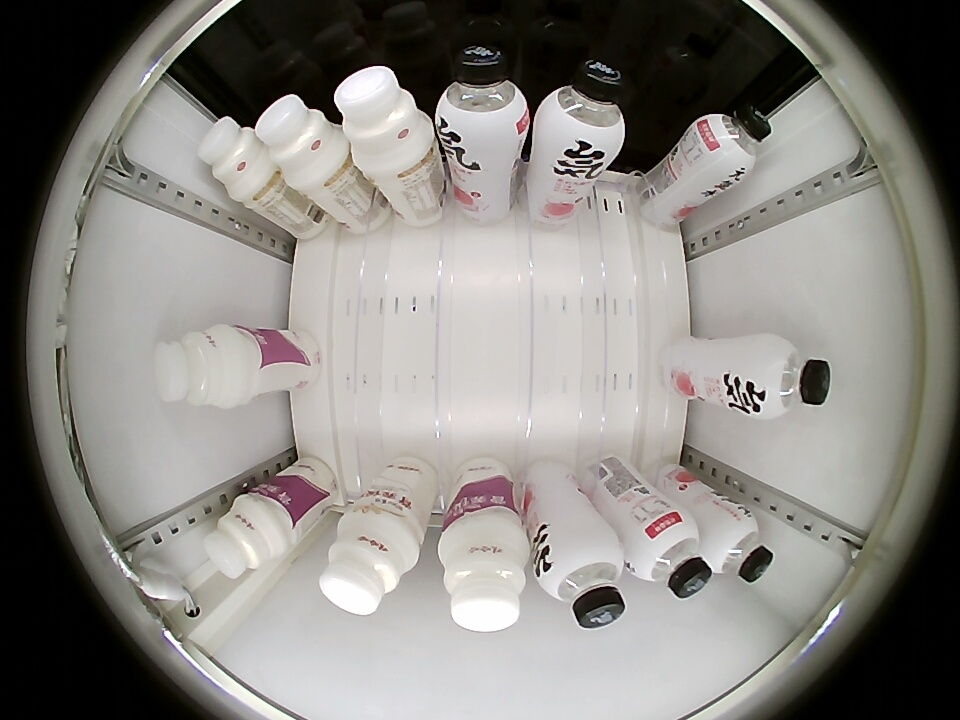yingyangkuaixian: (333, 66, 435, 172), (439, 518, 531, 632), (319, 513, 420, 615), (256, 94, 347, 187), (153, 324, 250, 409), (205, 492, 290, 578), (199, 116, 274, 202)
yuanqishui: (435, 43, 530, 150), (532, 59, 629, 162), (532, 528, 627, 628), (626, 509, 712, 599), (743, 335, 832, 418), (692, 102, 774, 184), (703, 505, 774, 583)
